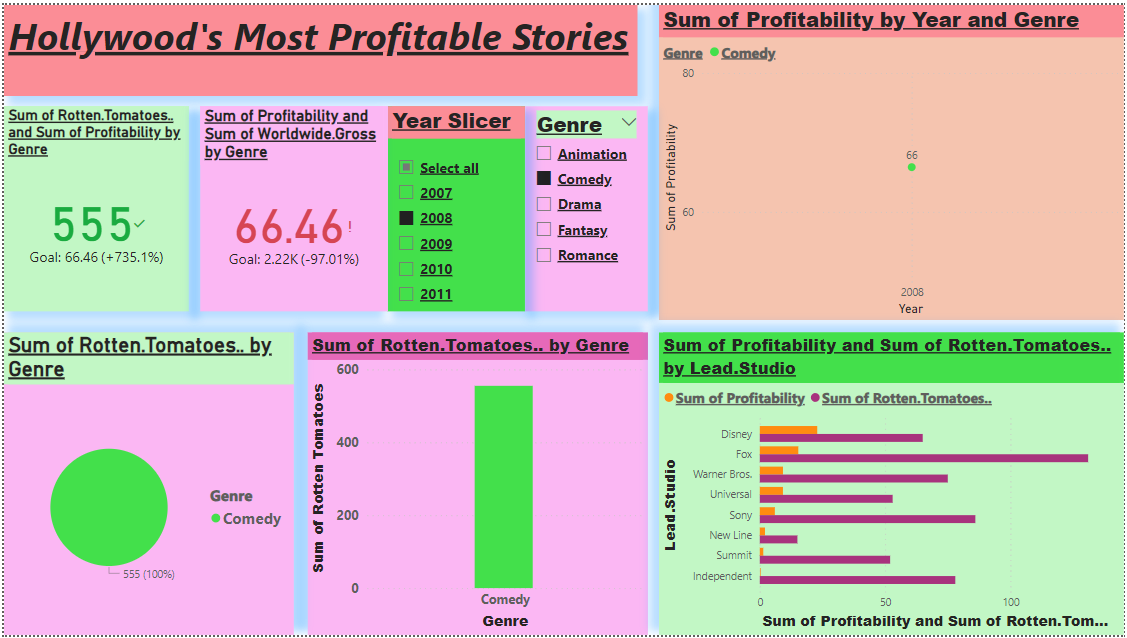

Layout of this report page (visuals, bound fields, positions):
{"tool":"powerbi","page":{"name":"Hollywoods Most Profitable Stories","canvas":[1280,720],"ordinal":0},"visuals":[{"type":"clusteredColumnChart","fields":{"Category":["clean_df.Genre"],"Y":["Sum(clean_df.Rotten.Tomatoes..)"]},"box":[347.1,374.3,388.6,345.7],"z":0},{"type":"lineChart","fields":{"Category":["clean_df.Year"],"Y":["Sum(clean_df.Profitability)"],"Series":["clean_df.Genre"]},"box":[748.6,0,531.4,360],"z":1},{"type":"textbox","box":[0,0,724.3,104.3],"z":2},{"type":"pieChart","fields":{"Series":["clean_df.Genre"],"Y":["Sum(clean_df.Rotten.Tomatoes..)"]},"box":[0,374.3,331.4,345.7],"z":3},{"type":"slicer","fields":{"Values":["clean_df.Genre"]},"box":[595.7,115.7,140,234.3],"z":4},{"type":"slicer","title":"Year Slicer","fields":{"Values":["clean_df.Year"]},"box":[438.6,115.7,157.1,234.3],"z":5},{"type":"kpi","fields":{"Indicator":["Sum(clean_df.Rotten.Tomatoes..)"],"Goal":["Sum(clean_df.Profitability)"],"TrendLine":["clean_df.Genre"]},"box":[0,115.7,211.4,234.3],"z":6},{"type":"kpi","fields":{"TrendLine":["clean_df.Genre"],"Indicator":["Sum(clean_df.Profitability)"],"Goal":["Sum(clean_df.Worldwide.Gross)"]},"box":[224.3,115.7,214.3,234.3],"z":7},{"type":"clusteredBarChart","fields":{"Category":["clean_df.Lead.Studio"],"Y":["Sum(clean_df.Profitability)","Sum(clean_df.Rotten.Tomatoes..)"]},"box":[748.6,374.3,531.4,345.7],"z":8}]}

Visuals, with their boxes in screenshot pixels (x1, y1, x2, y2), scaled from the page's 1280x720 canvas onto the 1127x638 screenshot:
clusteredColumnChart - clean_df.Genre x Sum(clean_df.Rotten.Tomatoes..): (306, 332, 648, 637)
lineChart - clean_df.Year x Sum(clean_df.Profitability): (659, 0, 1126, 319)
textbox: (0, 0, 638, 92)
pieChart - clean_df.Genre x Sum(clean_df.Rotten.Tomatoes..): (0, 332, 292, 637)
slicer - clean_df.Genre: (524, 103, 648, 310)
"Year Slicer" slicer: (386, 103, 524, 310)
kpi - Sum(clean_df.Rotten.Tomatoes..) x Sum(clean_df.Profitability): (0, 103, 186, 310)
kpi - clean_df.Genre x Sum(clean_df.Profitability): (197, 103, 386, 310)
clusteredBarChart - clean_df.Lead.Studio x Sum(clean_df.Profitability): (659, 332, 1126, 637)
